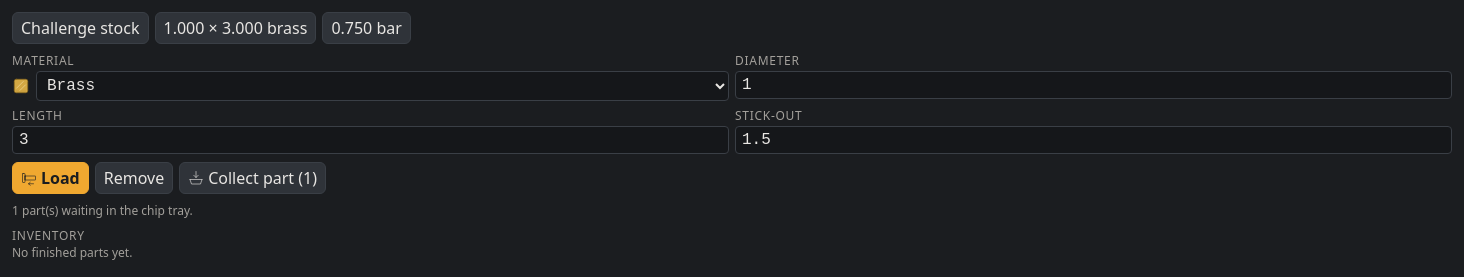
Test: StockPanel › collects parted pieces into the inventory list
Click the button with test id "stock-collect" at (253, 178), box x1=179 y1=162 x2=326 y2=194
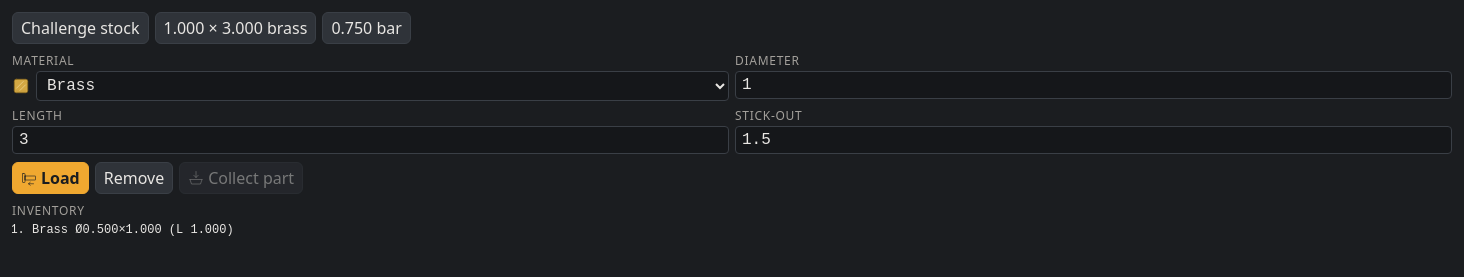
Result: the list with test id "stock-inventory" reads "Brass Ø0.500×1.000 (L 1.000)" at x1=32 y1=223 x2=234 y2=237
